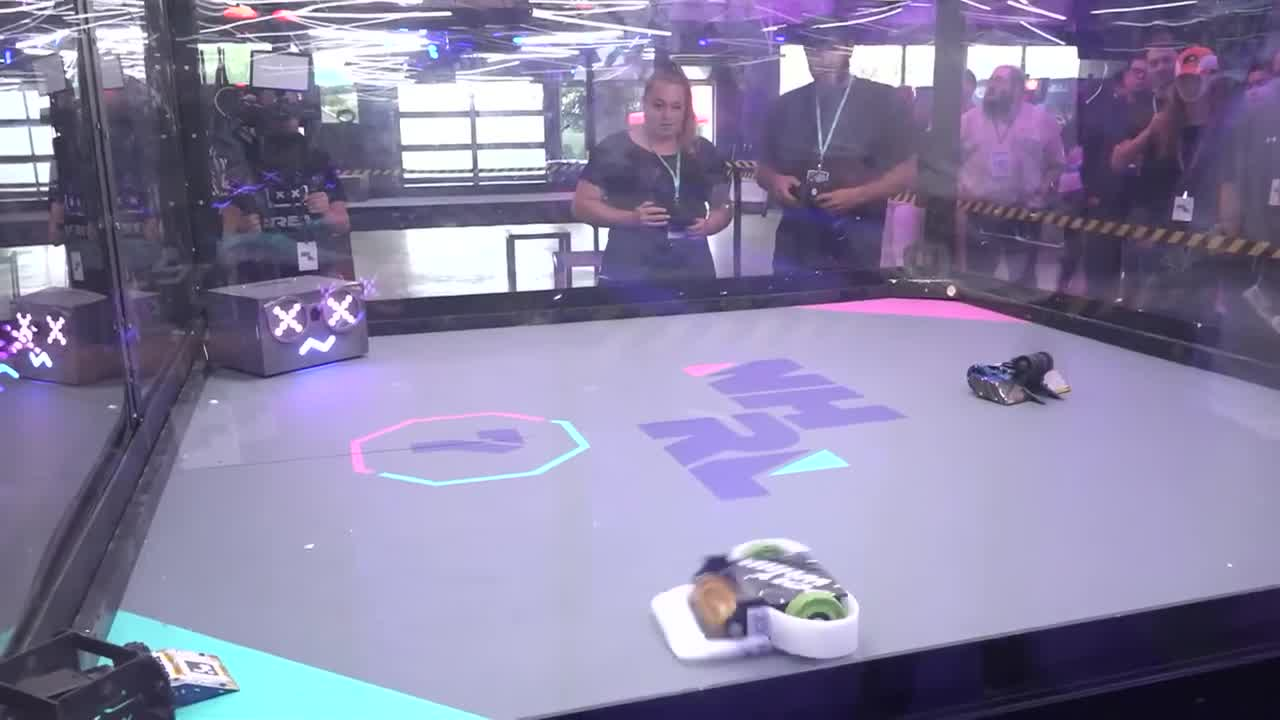combatbot: (651, 537, 865, 658), (963, 350, 1074, 410)
housebot: (205, 277, 370, 379), (0, 288, 122, 387)
minibot: (156, 649, 243, 710)
